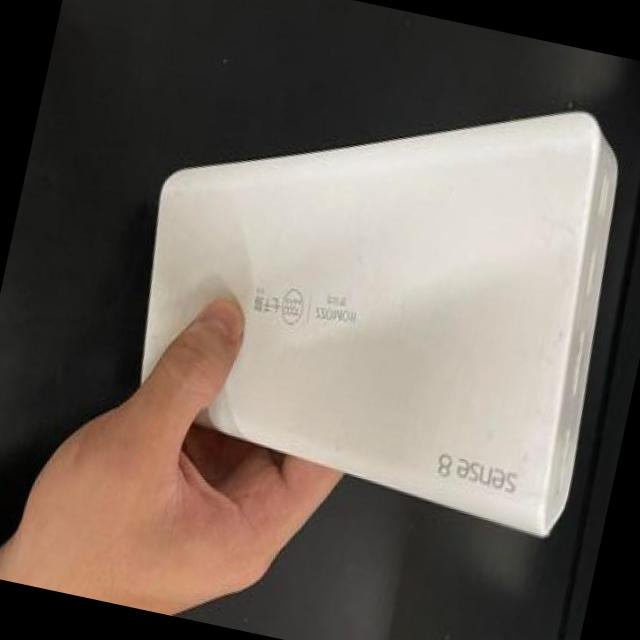power_bank: (100, 20, 640, 554)
